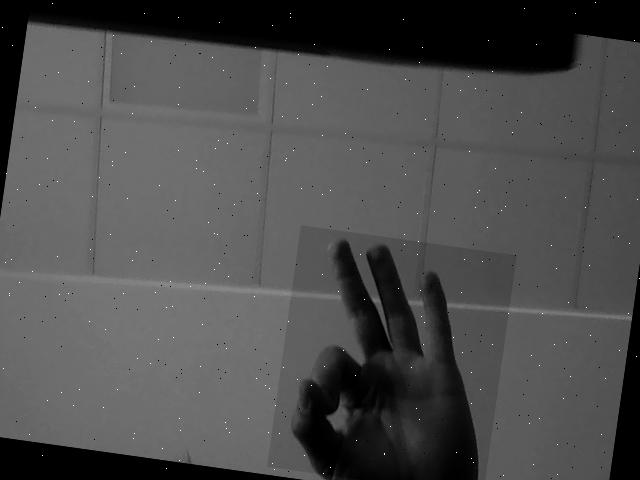OK: (267, 225, 517, 480)
